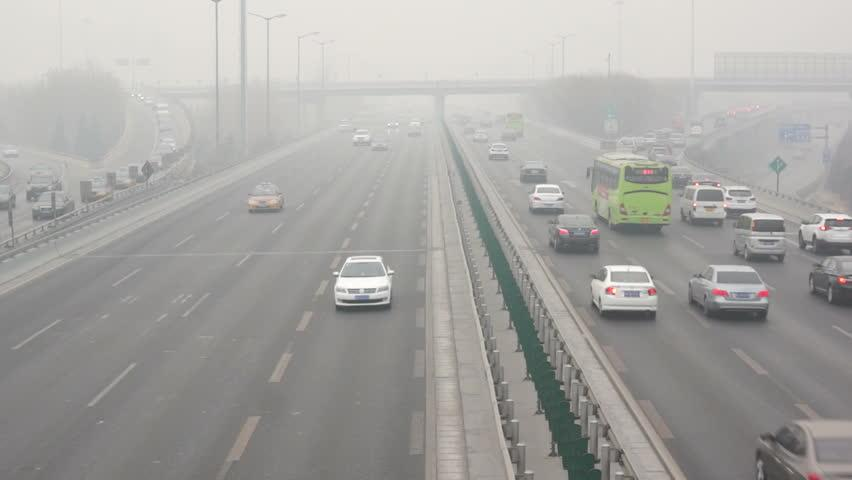bus: (586, 152, 675, 234), (503, 111, 525, 137)
car: (753, 417, 852, 480), (686, 263, 770, 319), (588, 265, 660, 321), (332, 255, 395, 311), (730, 212, 788, 264), (806, 251, 852, 304), (798, 211, 852, 256), (547, 213, 601, 254), (678, 184, 728, 227), (713, 185, 758, 223), (32, 191, 75, 221), (527, 183, 566, 215), (246, 181, 285, 213), (26, 171, 63, 203), (685, 169, 723, 197), (79, 179, 111, 204), (518, 160, 549, 185), (110, 165, 139, 191), (666, 166, 693, 189), (615, 135, 641, 153), (487, 143, 511, 160), (1, 184, 16, 211), (350, 128, 372, 146), (664, 133, 687, 149), (370, 137, 388, 151), (2, 142, 18, 157), (499, 128, 517, 141), (472, 130, 489, 143), (336, 119, 353, 132), (688, 125, 704, 137)
